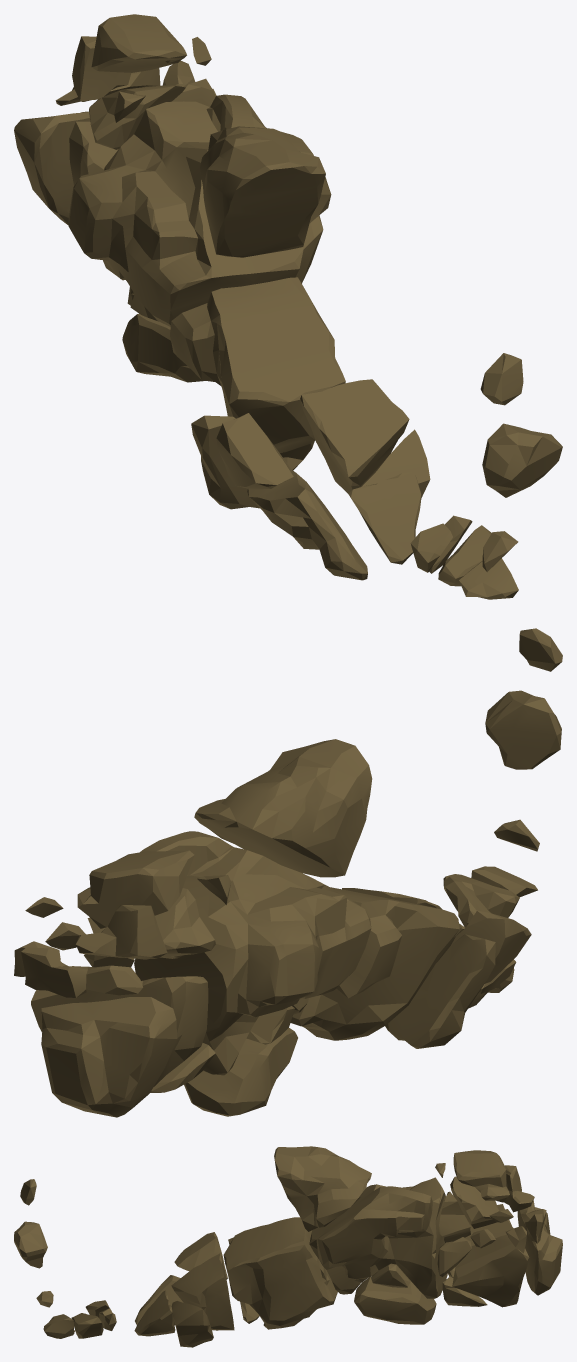
The model's file is sallyhands_002_left_loose.fbx.
3 renders of one model, top to bottom at view 1: azimuth 30°, elevation 25°; view 2: azimuth 150°, elevation 25°; view 3: azimuth 270°, elevation 25°, orthographic. The views are drawn at different scales.
Parts seen in each view (by area): view 1: sally-hands-002-left_loose.011, sally-hands-002-left_loose.001, sally-hands-002-left_loose.003, sally-hands-002-left_loose.002, sally-hands-002-left_loose.009, sally-hands-002-left_loose.016, sally-hands-002-left_loose.015, sally-hands-002-left_loose.007, sally-hands-002-left_loose.004, sally-hands-002-left_loose.008, sally-hands-002-left_loose.019, sally-hands-002-left_loose.012 (+10 smaller); view 2: sally-hands-002-left_loose.011, sally-hands-002-left_loose.003, sally-hands-002-left_loose.016, sally-hands-002-left_loose.001, sally-hands-002-left_loose.010, sally-hands-002-left_loose.015, sally-hands-002-left_loose.012, sally-hands-002-left_loose.014, sally-hands-002-left_loose.004, sally-hands-002-left_loose.027, sally-hands-002-left_loose.017, sally-hands-002-left_loose.005 (+10 smaller); view 3: sally-hands-002-left_loose.011, sally-hands-002-left_loose.001, sally-hands-002-left_loose.003, sally-hands-002-left_loose.014, sally-hands-002-left_loose.002, sally-hands-002-left_loose.012, sally-hands-002-left_loose.015, sally-hands-002-left_loose.016, sally-hands-002-left_loose.006, sally-hands-002-left_loose.005, sally-hands-002-left_loose.019, sally-hands-002-left_loose.007 (+14 smaller).
Part boxes in pixels (box(x1,y1,x2,y2)): sally-hands-002-left_loose.011: box(68, 94, 323, 326); sally-hands-002-left_loose.001: box(170, 277, 345, 470); sally-hands-002-left_loose.003: box(200, 126, 331, 257); sally-hands-002-left_loose.002: box(300, 379, 409, 493); sally-hands-002-left_loose.009: box(247, 470, 367, 580); sally-hands-002-left_loose.016: box(14, 111, 90, 225); sally-hands-002-left_loose.015: box(91, 14, 186, 72); sally-hands-002-left_loose.007: box(348, 472, 421, 564); sally-hands-002-left_loose.004: box(482, 423, 562, 497); sally-hands-002-left_loose.008: box(216, 413, 293, 489); sally-hands-002-left_loose.019: box(438, 525, 518, 599); sally-hands-002-left_loose.012: box(122, 313, 204, 382); sally-hands-002-left_loose.011: box(134, 831, 371, 1075); sally-hands-002-left_loose.003: box(194, 739, 372, 877); sally-hands-002-left_loose.016: box(41, 997, 177, 1117); sally-hands-002-left_loose.001: box(290, 887, 459, 1040); sally-hands-002-left_loose.010: box(385, 934, 495, 1048); sally-hands-002-left_loose.015: box(77, 850, 194, 928); sally-hands-002-left_loose.012: box(184, 1028, 297, 1116); sally-hands-002-left_loose.014: box(31, 966, 208, 1086); sally-hands-002-left_loose.004: box(485, 690, 561, 769); sally-hands-002-left_loose.027: box(21, 947, 142, 997); sally-hands-002-left_loose.017: box(76, 905, 167, 958); sally-hands-002-left_loose.005: box(87, 888, 215, 956); sally-hands-002-left_loose.011: box(309, 1177, 447, 1298); sally-hands-002-left_loose.001: box(223, 1217, 337, 1329); sally-hands-002-left_loose.003: box(274, 1146, 371, 1231); sally-hands-002-left_loose.014: box(452, 1204, 529, 1307); sally-hands-002-left_loose.002: box(171, 1253, 234, 1330); sally-hands-002-left_loose.012: box(354, 1277, 436, 1324); sally-hands-002-left_loose.015: box(453, 1150, 509, 1202); sally-hands-002-left_loose.016: box(517, 1207, 562, 1295); sally-hands-002-left_loose.006: box(171, 1301, 213, 1347); sally-hands-002-left_loose.005: box(450, 1176, 499, 1228); sally-hands-002-left_loose.019: box(43, 1313, 103, 1338); sally-hands-002-left_loose.007: box(134, 1290, 175, 1336).
Bounding box in the file's own units: 0.4626 × 0.6006 × 1.55.
